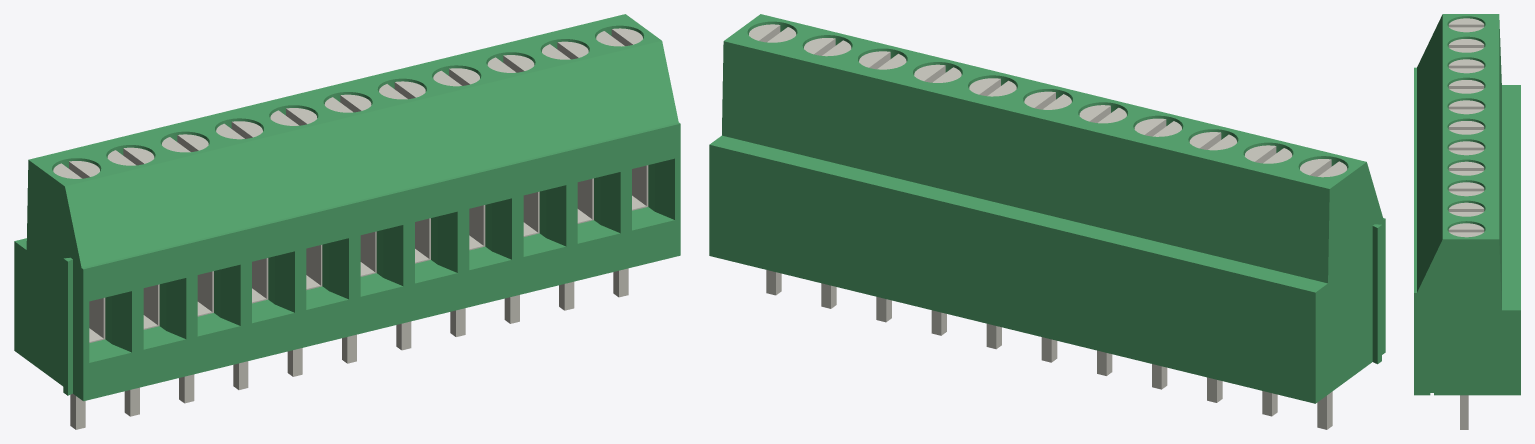
File: kc-terminalblock_phoenix_mkds-3-11-5.08_1x11_p5.08mm_horizontal.glb
3 renders of one model, left to right at view 1: azimuth 30°, elevation 25°; view 2: azimuth 150°, elevation 25°; view 3: azimuth 270°, elevation 25°, orthographic. The views are drawn at different scales.
Parts seen in each view (by area): view 1: 0.08333333333333333_0.4166666666666667_0.16666666666666666_0, 0.6666666666666666_0.6666666666666666_0.5833333333333334_0.8; view 2: 0.08333333333333333_0.4166666666666667_0.16666666666666666_0, 0.6666666666666666_0.6666666666666666_0.5833333333333334_0.8; view 3: 0.08333333333333333_0.4166666666666667_0.16666666666666666_0, 0.6666666666666666_0.6666666666666666_0.5833333333333334_0.8.
Part boxes in pixels (left/top/right/bottom): 0.08333333333333333_0.4166666666666667_0.16666666666666666_0: left=14, top=14, right=680, bottom=401; 0.6666666666666666_0.6666666666666666_0.5833333333333334_0.8: left=53, top=28, right=648, bottom=429; 0.08333333333333333_0.4166666666666667_0.16666666666666666_0: left=709, top=14, right=1385, bottom=403; 0.6666666666666666_0.6666666666666666_0.5833333333333334_0.8: left=749, top=24, right=1347, bottom=429; 0.08333333333333333_0.4166666666666667_0.16666666666666666_0: left=1414, top=14, right=1520, bottom=395; 0.6666666666666666_0.6666666666666666_0.5833333333333334_0.8: left=1448, top=18, right=1484, bottom=429.
Size of the model in its own units: 5.64 by 2.3 by 1.12.
